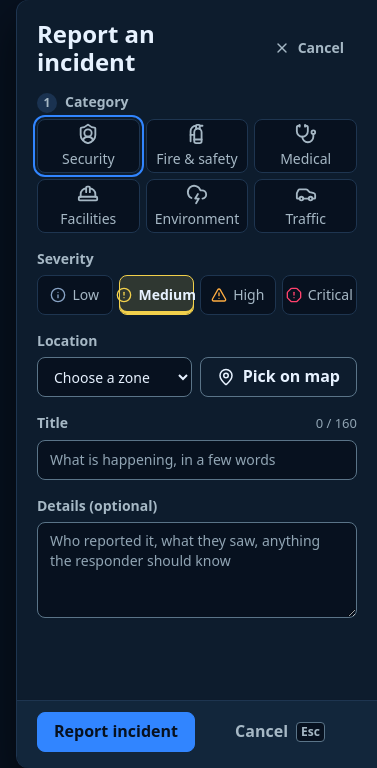
Test: ReportIncidentForm › explains a 422 in operator terms and keeps the input
This screenshot has width=377, height=768.
Click the radio button labelled "Medical".
click(306, 146)  # box [254,119,357,173]
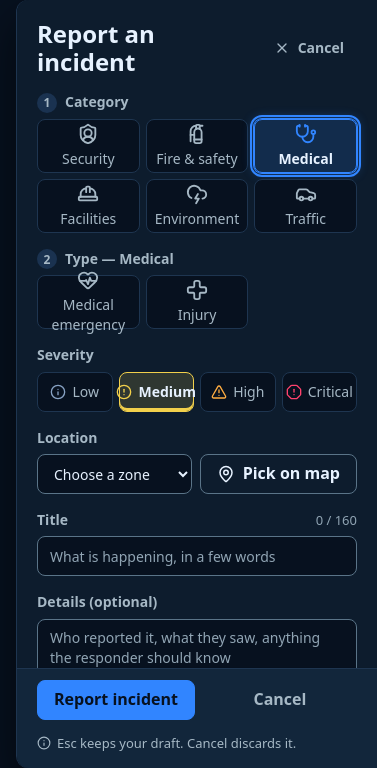
Click the radio button labelled "Medical emergency".
click(88, 302)  # box [37,275,140,329]
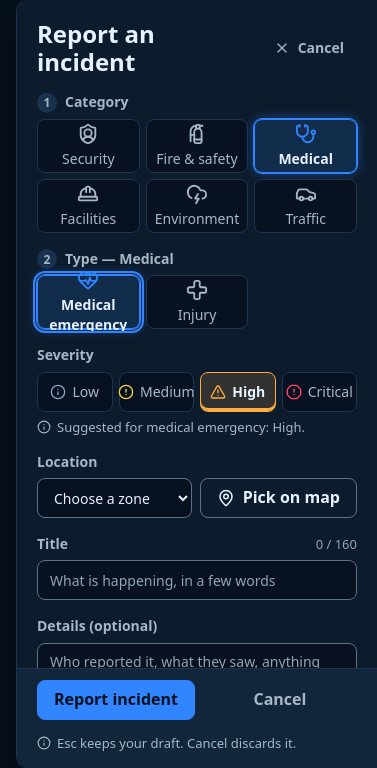
Click the radio button labelled "High".
click(238, 392)  # box [200,372,276,412]
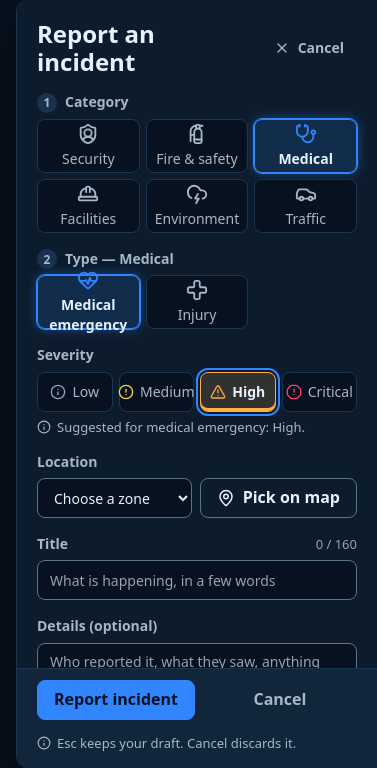
Select "Library" in the dropdown labelled "Location" at point(114, 498), box [37,478,192,518]
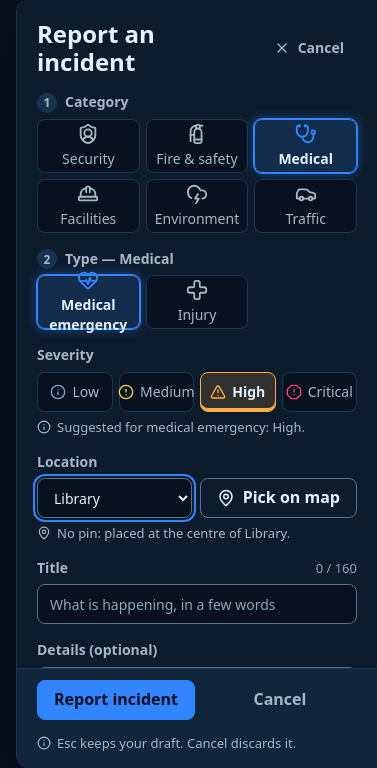
Type "  Person down at entrance " into the field labelled "Title".
click(197, 604); type("  Person down at entrance ")  # box [37,584,357,624]
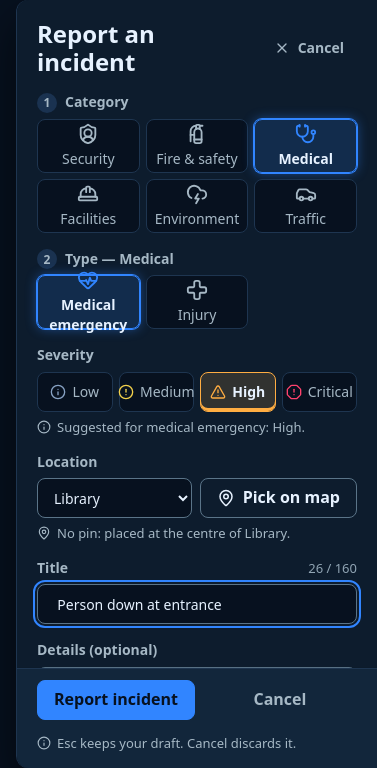
Click the button "Report incident".
click(116, 700)  # box [37,680,195,720]
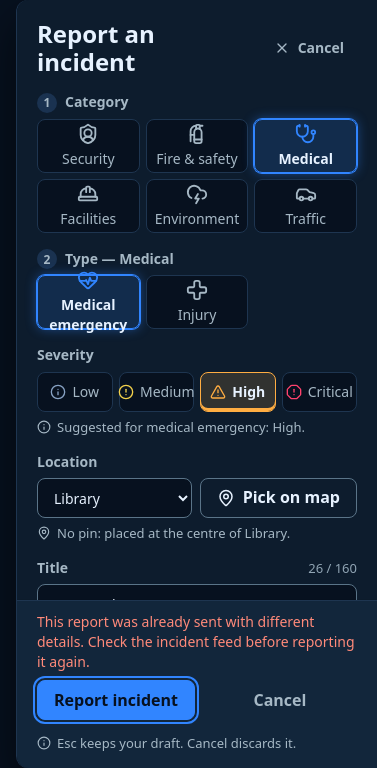
Expected: the message does not show "Idempotency-Key", [37,611,357,672]
Expected: the message shows "This report was already sent with different details. Check the incident feed before reporting it again.", [37,611,354,671]
